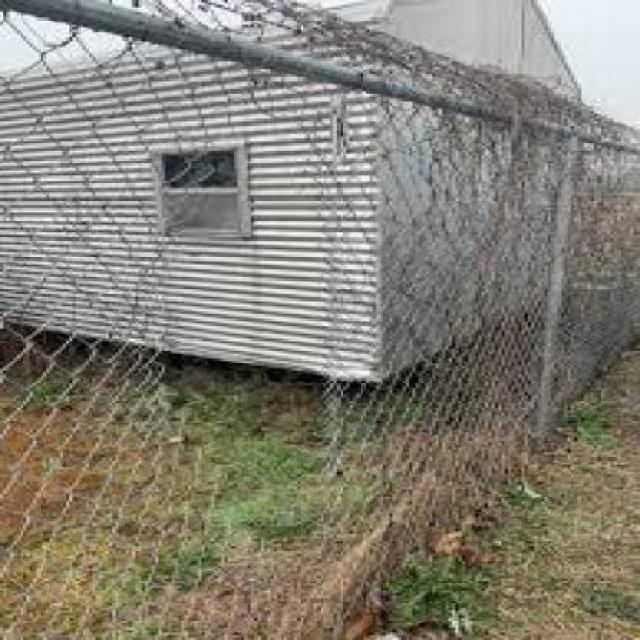fence line: (135, 100, 374, 523)
